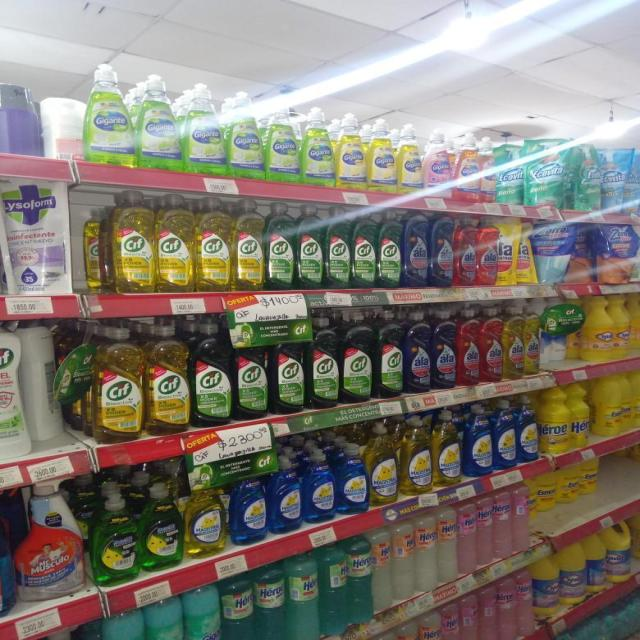ala_conc_amarillo: (503, 305, 523, 380), (524, 305, 540, 377)
ala_conc_azul: (404, 311, 430, 394), (402, 212, 429, 288), (432, 310, 456, 390), (430, 212, 454, 288)
ala_conc_rojo: (457, 308, 479, 387), (480, 306, 502, 384), (454, 217, 476, 287), (477, 222, 496, 286)
ala_sachet_amarillo: (498, 217, 516, 286), (516, 219, 534, 285)
cif_conc_bot_amarilla: (92, 326, 143, 442), (145, 323, 190, 435), (113, 190, 154, 294), (156, 193, 193, 294), (196, 196, 232, 293), (232, 199, 264, 292), (81, 206, 110, 295)
cif_conc_botella_verde: (192, 320, 231, 427), (233, 322, 269, 420), (271, 327, 305, 415), (308, 316, 340, 408), (341, 311, 373, 403), (265, 202, 295, 291), (374, 310, 403, 398), (296, 205, 324, 290), (325, 208, 350, 289), (378, 210, 402, 289), (352, 210, 376, 289)
heroe: (286, 552, 318, 640), (255, 563, 286, 640), (222, 571, 254, 640), (348, 534, 372, 624), (392, 518, 414, 600), (414, 511, 436, 591), (372, 525, 391, 610), (147, 597, 184, 640), (437, 503, 456, 582), (457, 498, 476, 575), (104, 609, 146, 640), (493, 488, 511, 560), (498, 577, 516, 640), (477, 493, 492, 567), (479, 584, 496, 640), (461, 592, 478, 640), (420, 609, 442, 640), (443, 600, 460, 640), (29, 627, 78, 640), (397, 616, 419, 640)
magistral_con_amarillo: (185, 478, 225, 558), (401, 414, 432, 496), (369, 422, 398, 506), (433, 408, 461, 486)
magistral_con_azul: (269, 452, 302, 534), (230, 476, 267, 545), (304, 448, 334, 524), (337, 443, 368, 515), (464, 404, 492, 477), (494, 399, 516, 470)
